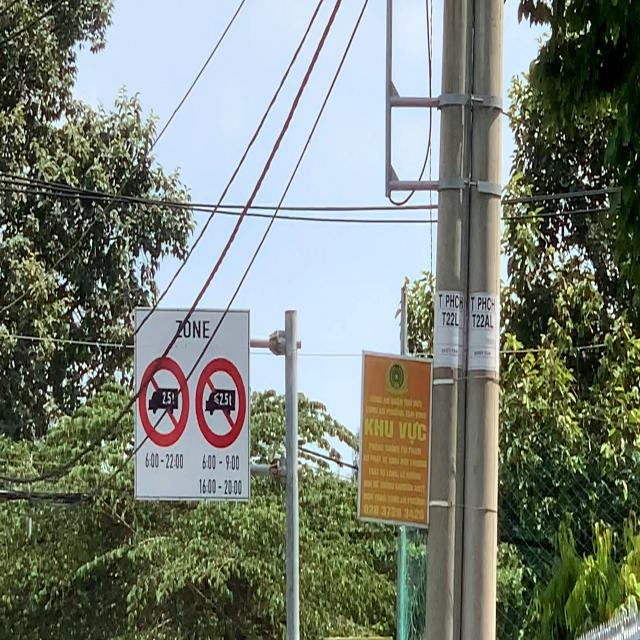P.106b: (195, 352, 246, 449), (138, 356, 190, 448)
